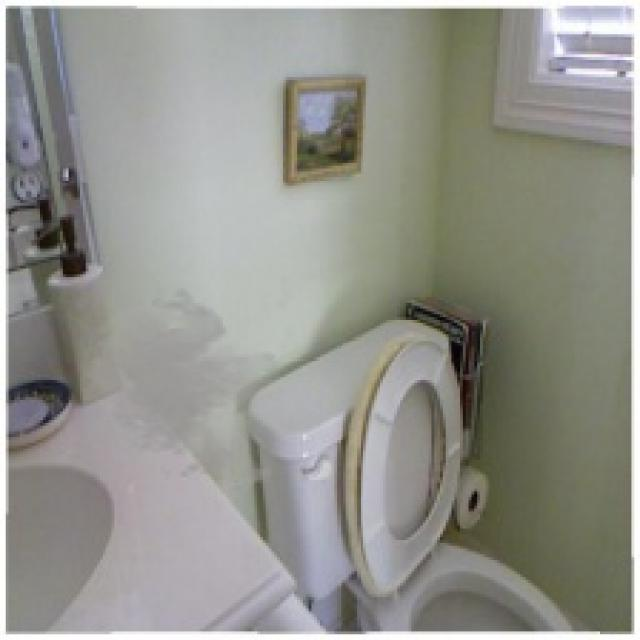smoke: (80, 286, 303, 491)
